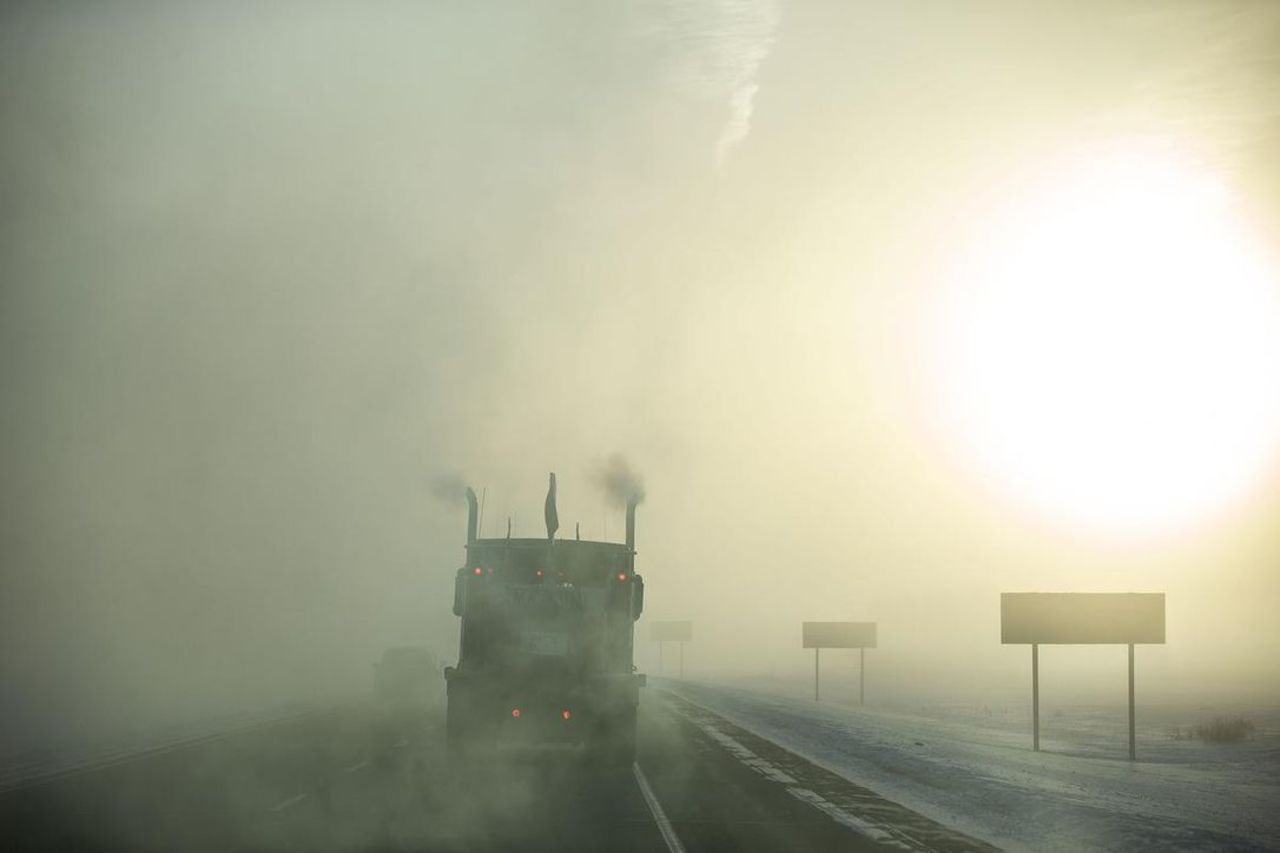car: (370, 649, 445, 698)
truck: (448, 481, 646, 774)
